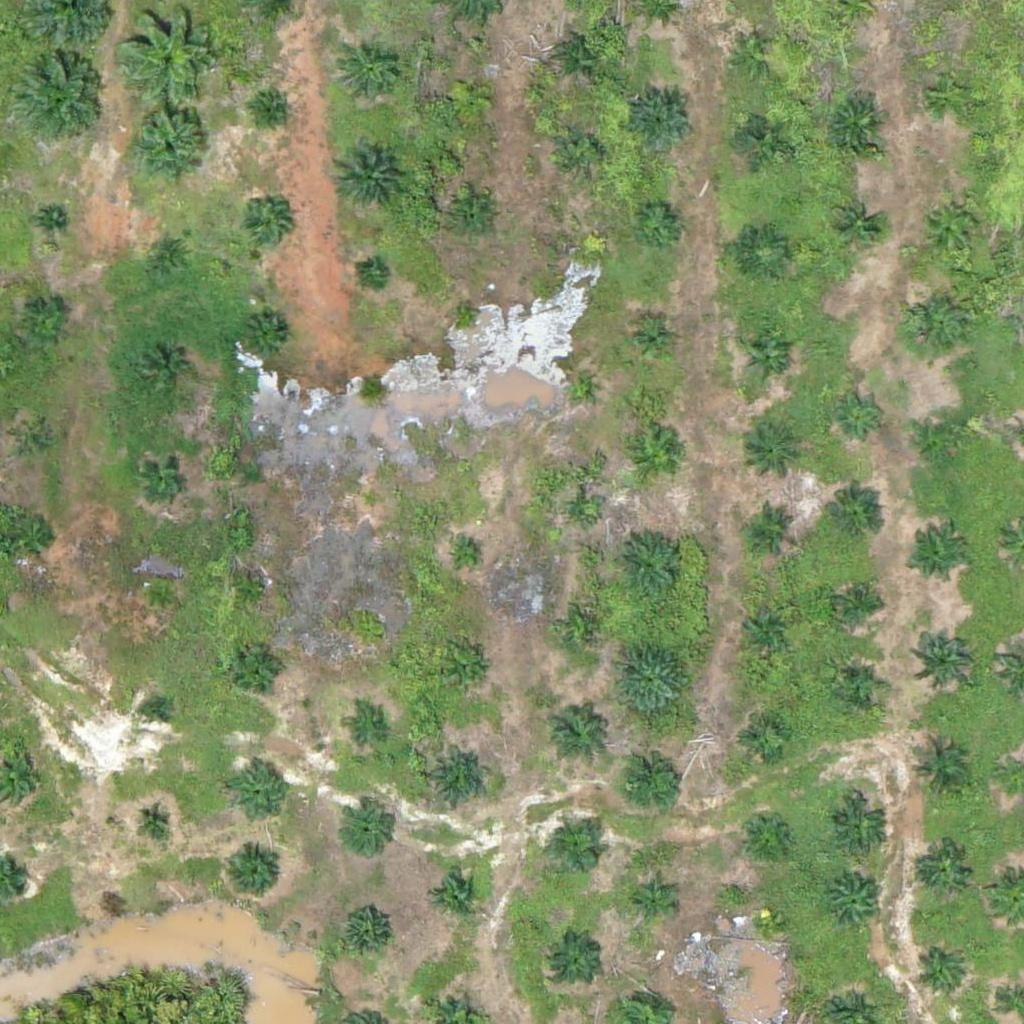Kelapa_Sawit: (118, 2, 218, 103), (125, 103, 213, 191), (16, 52, 104, 140), (610, 527, 685, 603), (614, 745, 689, 821), (614, 641, 689, 717), (331, 139, 406, 215), (543, 700, 606, 763), (828, 796, 891, 859), (428, 746, 491, 809), (744, 420, 807, 483), (902, 291, 965, 354), (631, 89, 694, 152), (823, 489, 886, 552), (907, 527, 969, 590), (908, 740, 970, 803), (911, 624, 973, 687), (339, 41, 401, 104), (222, 843, 284, 906), (226, 761, 288, 824), (826, 93, 888, 156), (920, 194, 982, 257), (825, 875, 887, 937), (12, 512, 62, 563), (342, 805, 392, 856), (339, 906, 389, 957), (430, 870, 480, 921), (232, 642, 282, 693), (738, 228, 788, 279), (736, 110, 786, 161), (556, 32, 606, 83), (557, 126, 607, 177), (445, 72, 495, 123), (633, 199, 683, 250), (831, 199, 881, 250), (917, 412, 967, 463), (835, 389, 885, 440), (743, 331, 793, 382), (554, 825, 604, 875), (550, 935, 600, 985), (740, 808, 790, 858), (739, 712, 789, 762), (921, 843, 971, 893), (632, 433, 682, 483), (926, 70, 976, 120), (729, 30, 779, 80), (451, 193, 501, 243), (833, 578, 883, 628), (835, 662, 885, 712), (741, 598, 791, 648), (746, 503, 796, 553), (628, 316, 678, 366), (916, 947, 966, 997), (240, 199, 290, 249), (243, 313, 293, 363), (140, 452, 190, 502), (140, 345, 190, 395), (147, 231, 197, 281), (20, 301, 70, 351), (632, 881, 670, 919), (345, 711, 383, 749), (450, 654, 487, 692), (137, 802, 174, 840), (141, 578, 179, 615), (15, 423, 53, 460), (234, 572, 271, 610), (360, 262, 385, 288), (572, 618, 597, 644), (565, 373, 590, 398), (570, 501, 595, 526), (453, 544, 478, 569), (453, 300, 478, 325), (753, 909, 778, 934), (143, 699, 168, 724), (261, 98, 286, 123), (359, 489, 384, 514), (39, 208, 63, 233)
